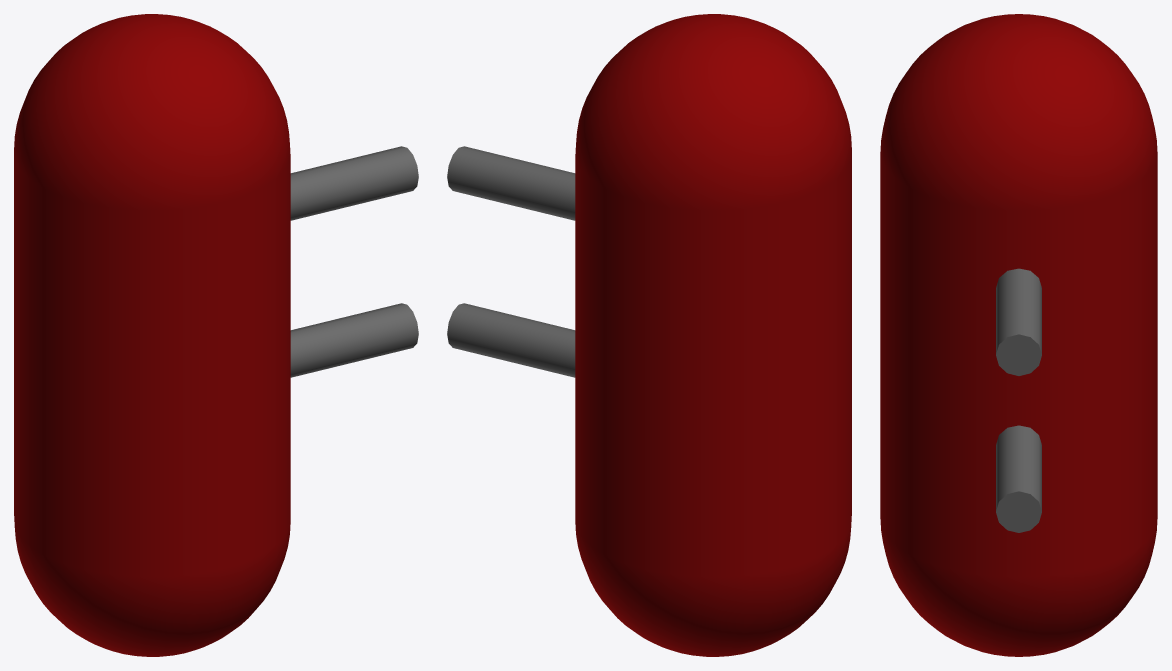
Rendered from boiler.glb.
3 renders of one model, left to right at view 1: azimuth 30°, elevation 25°; view 2: azimuth 150°, elevation 25°; view 3: azimuth 270°, elevation 25°, orthographic.
Bounding box in the file's own units: 3.75 × 5.9 × 2.4.
